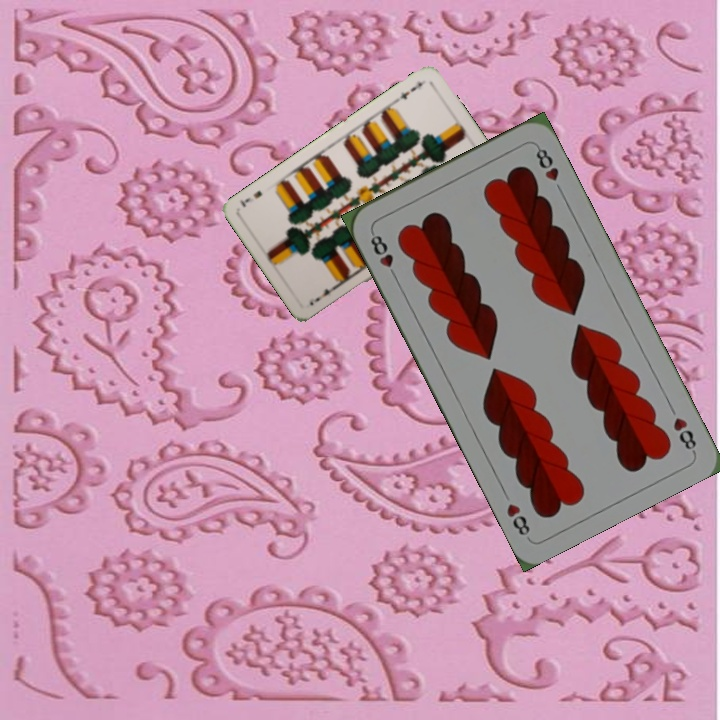E7: (311, 280, 340, 305), (396, 77, 425, 102)
H8: (366, 227, 400, 282), (669, 413, 699, 455)
